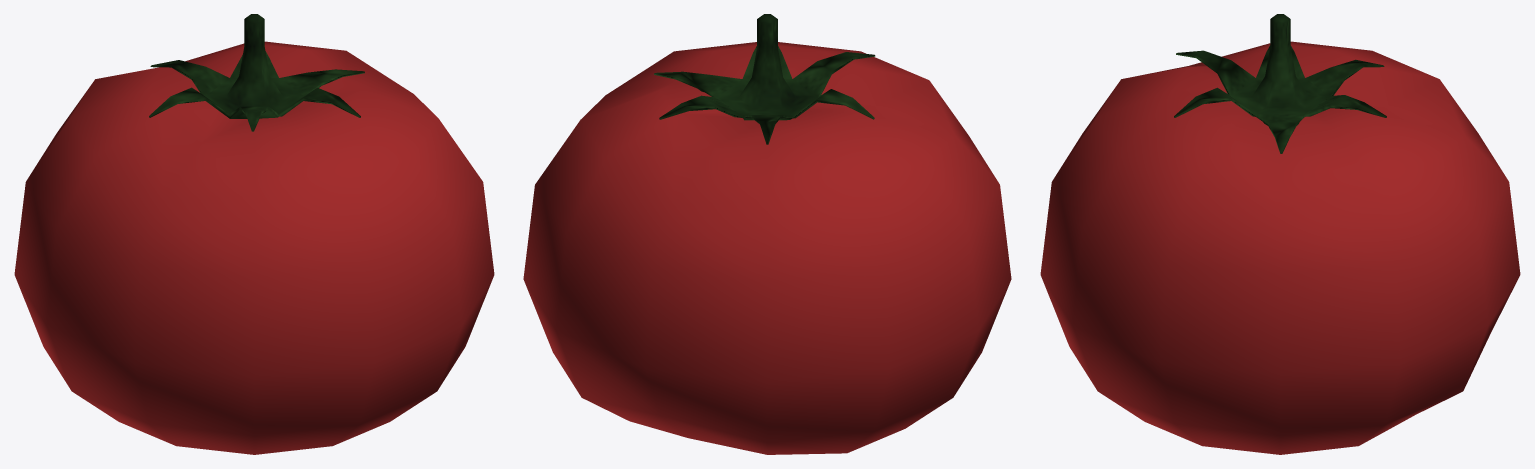
File: tometo.fbx
3 views of the same model, side by side, from view 1: azimuth 30°, elevation 25°; view 2: azimuth 150°, elevation 25°; view 3: azimuth 270°, elevation 25° (orthographic).
Visible parts, largest first — view 1: sos_game_play_models:Tomato_red; view 2: sos_game_play_models:Tomato_red; view 3: sos_game_play_models:Tomato_red.
Part boxes in pixels (bbox=[...]): sos_game_play_models:Tomato_red: bbox=[14, 14, 494, 454]; sos_game_play_models:Tomato_red: bbox=[523, 14, 1011, 454]; sos_game_play_models:Tomato_red: bbox=[1040, 14, 1520, 454].
Bounding box in the file's own units: 5.73 × 5.31 × 5.82.
Materials: 1 (1 with a texture image).
